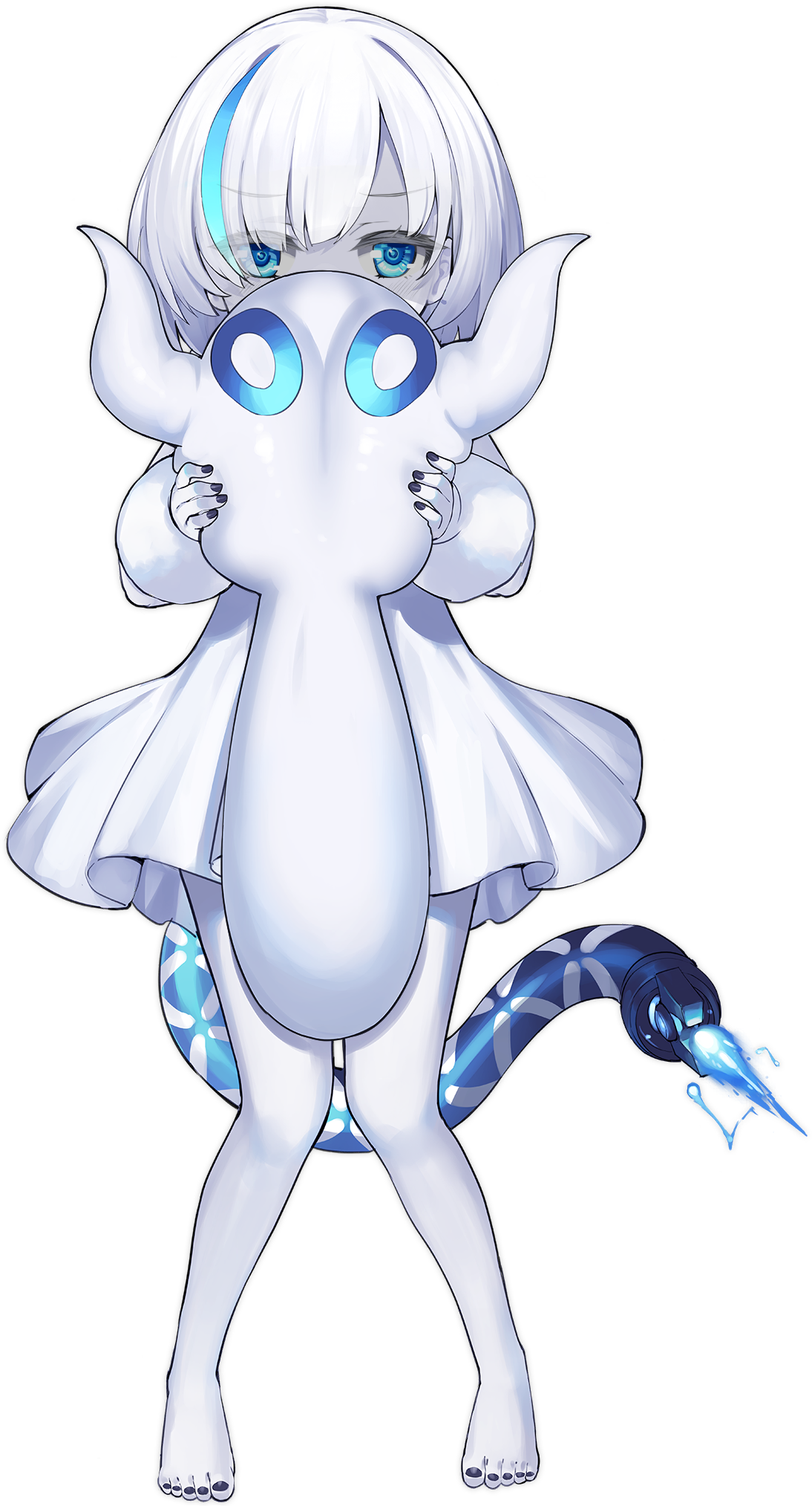person: (1, 1, 810, 1505)
